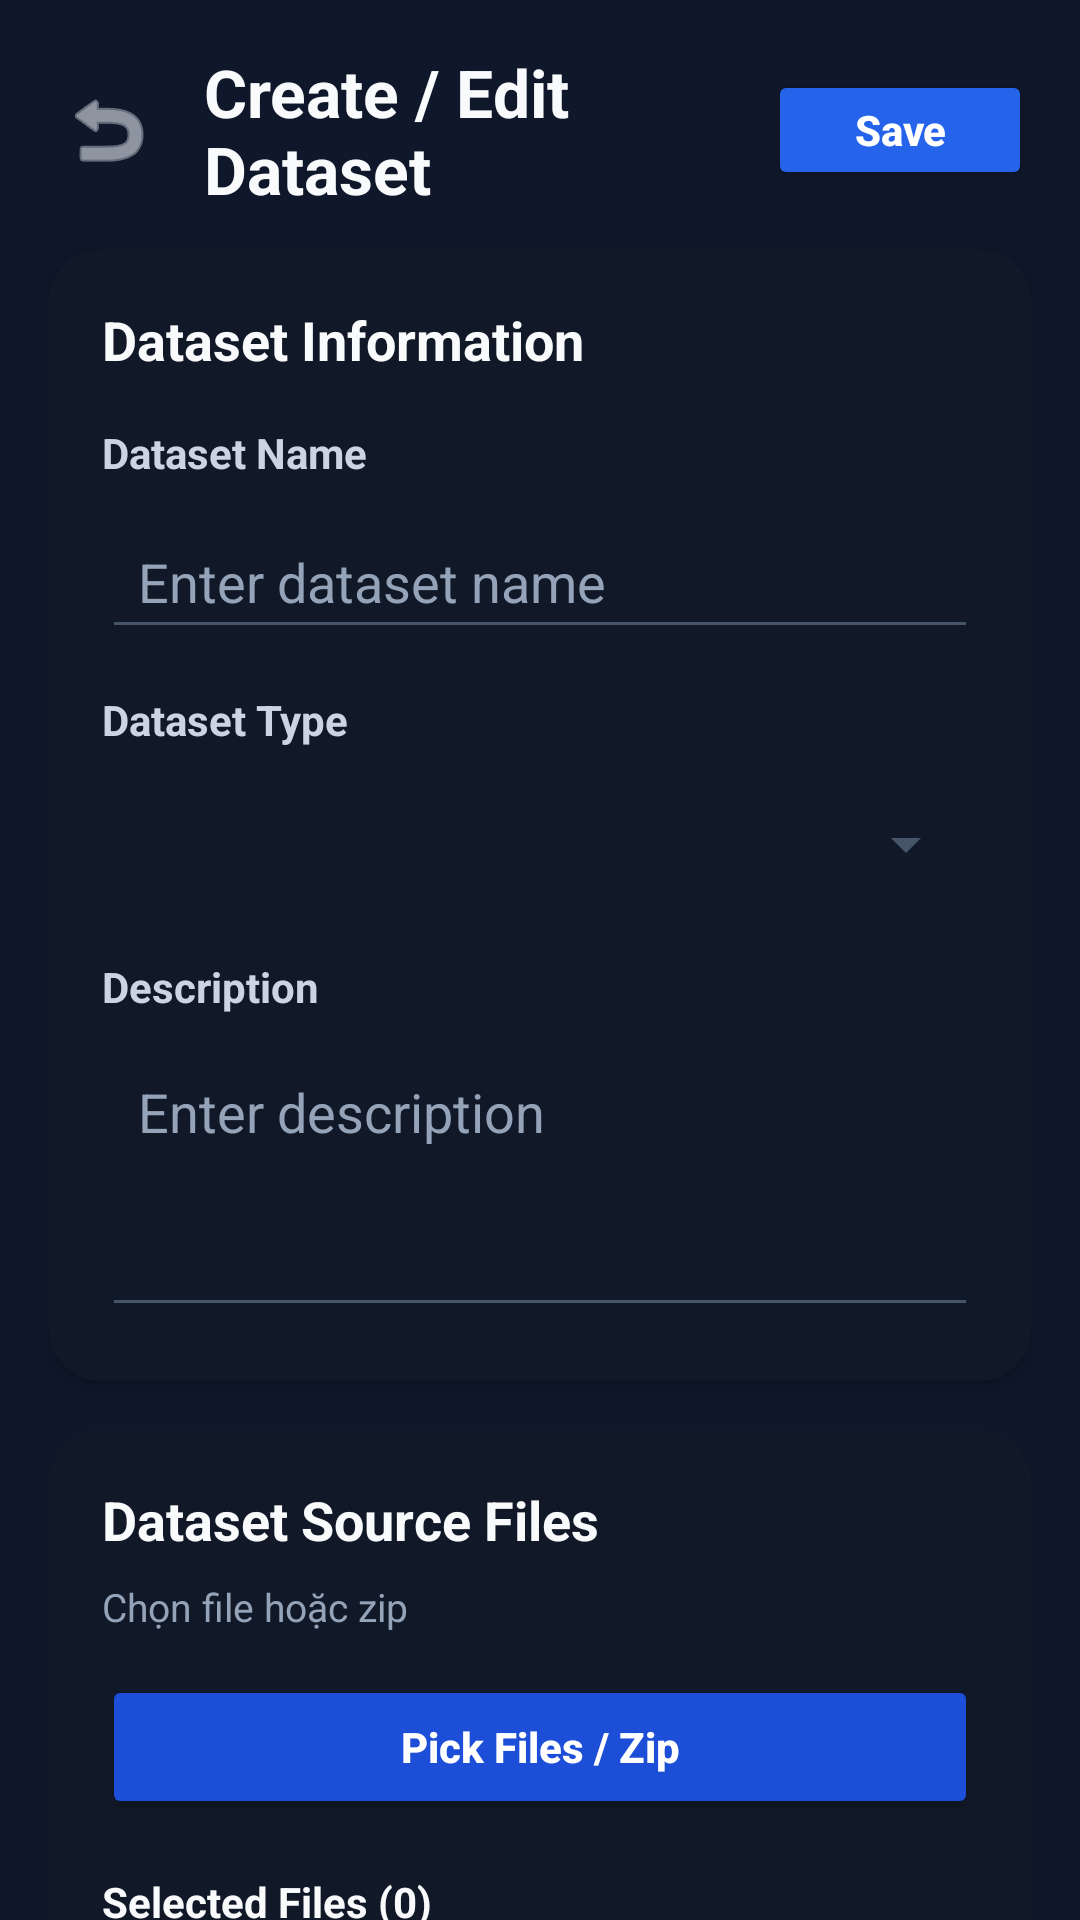

Icons on this 1080*1920 Android screen, each with its box as (x1=x1, y1=y1, x2=x2, y2=y2):
revert: (x1=75, y1=99, x2=144, y2=162)
